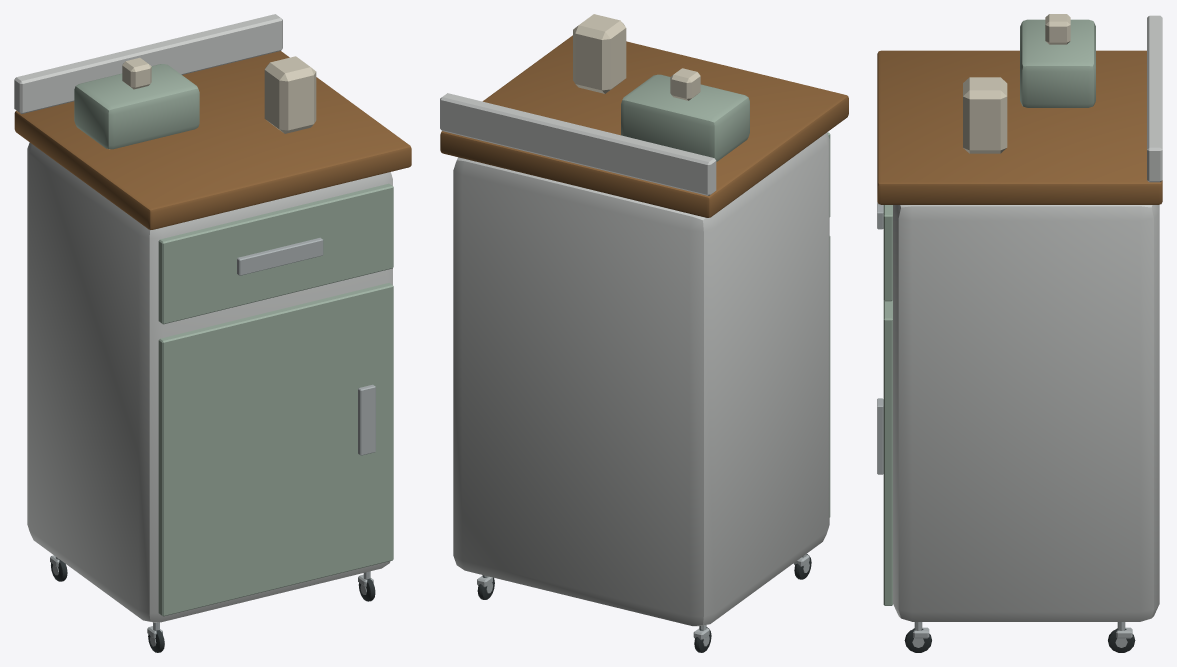
The model's file is bedside-table.glb.
3 views of the same model, side by side, from view 1: azimuth 30°, elevation 25°; view 2: azimuth 150°, elevation 25°; view 3: azimuth 270°, elevation 25° (orthographic). The views are drawn at different scales.
Parts seen in each view (by area): view 1: bedside-table; view 2: bedside-table; view 3: bedside-table.
Part boxes in pixels (left/top/right/bottom): bedside-table: left=14, top=14, right=411, bottom=652; bedside-table: left=440, top=14, right=848, bottom=652; bedside-table: left=877, top=14, right=1162, bottom=652.
Size of the model in its own units: 0.5 by 0.9595 by 0.45.
